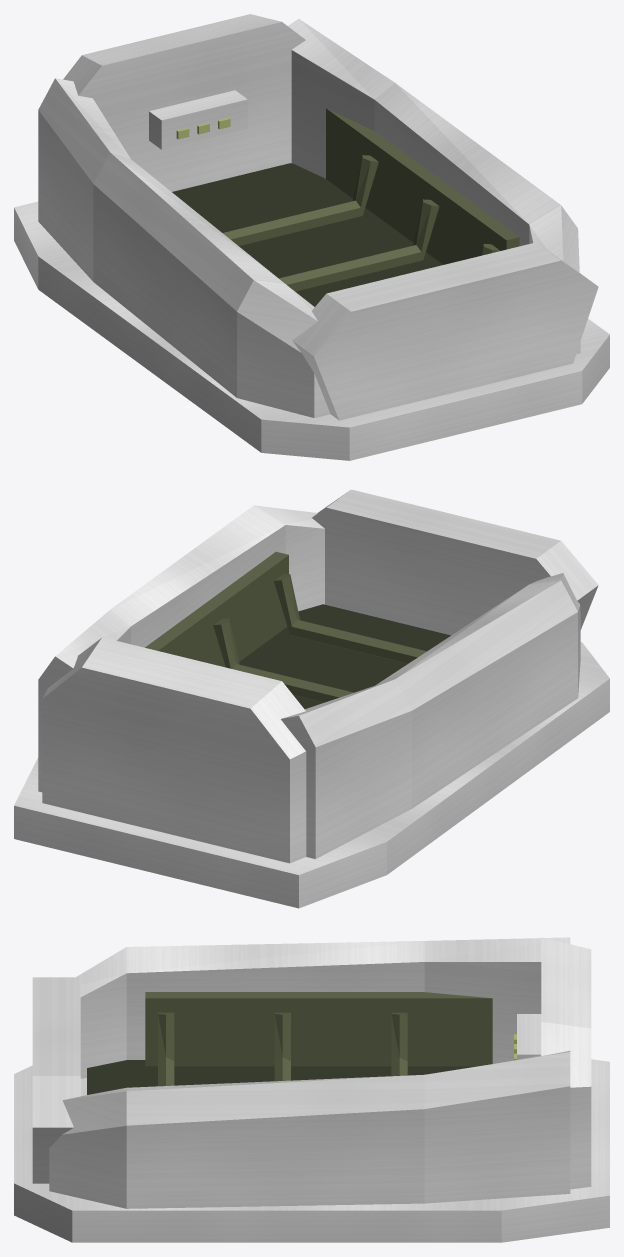
Rendered from mech_capsule_open.obj.
The picture shows the model from 3 angles, top to bottom: view 1: azimuth 30°, elevation 25°; view 2: azimuth 150°, elevation 25°; view 3: azimuth 270°, elevation 25°; orthographic projection. The views are drawn at different scales.
Visible parts, largest first — view 1: mech_capsule_open; view 2: mech_capsule_open; view 3: mech_capsule_open.
Part boxes in pixels (x1=…): mech_capsule_open: x1=14, y1=14, x2=609, y2=460; mech_capsule_open: x1=14, y1=489, x2=609, y2=908; mech_capsule_open: x1=14, y1=937, x2=609, y2=1242.
Bounding box in the file's own units: 1.86 × 0.96 × 2.86.
